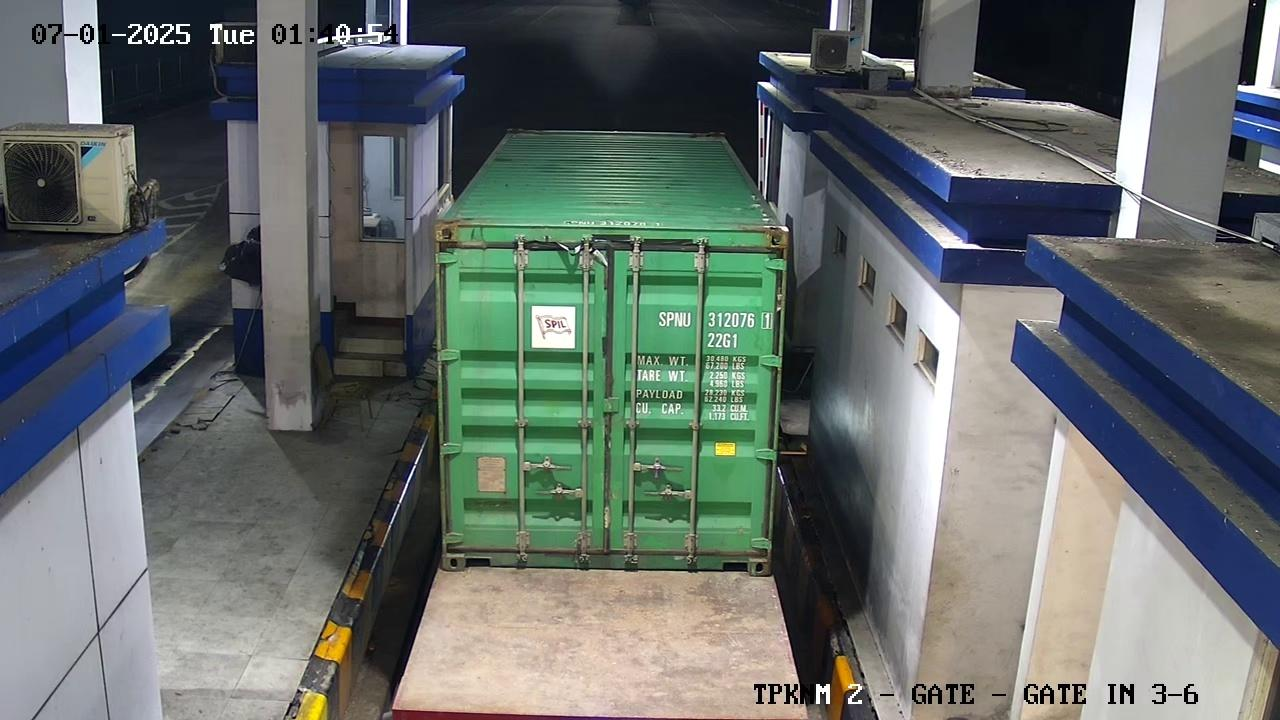Container_ID: (650, 304, 786, 334)
